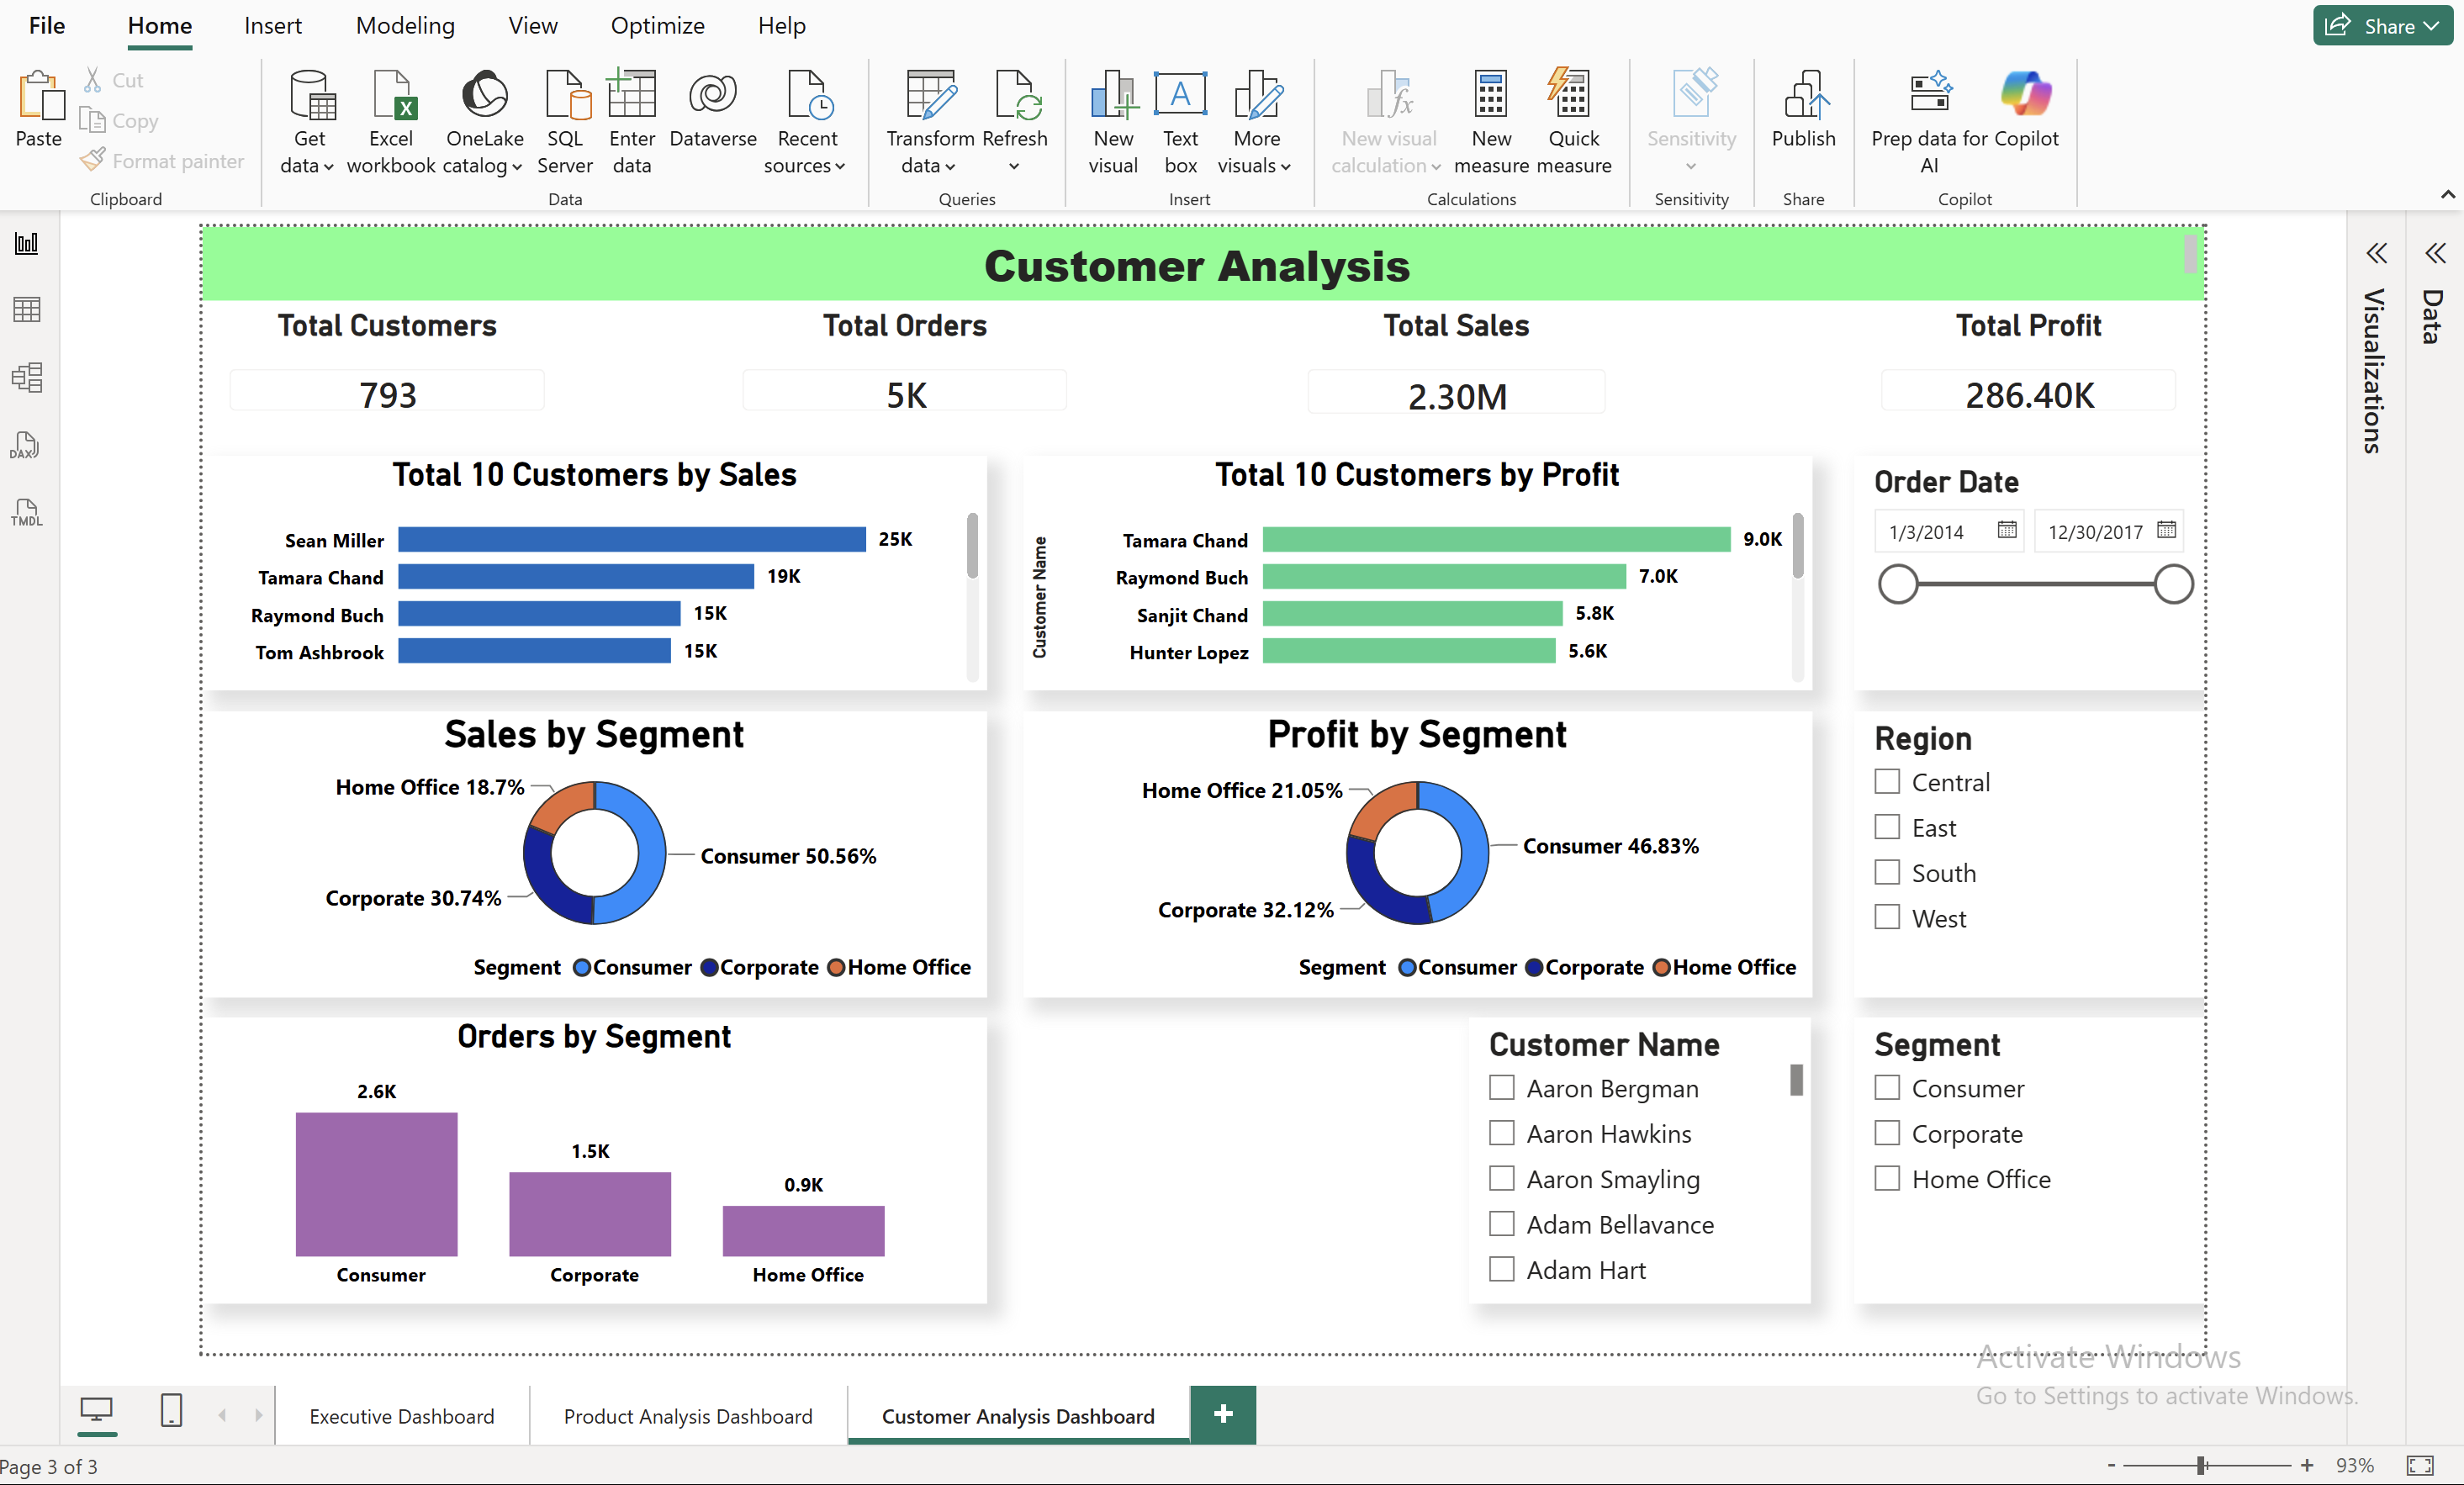

What the dashboard file says about the page in this screenshot:
{"tool":"powerbi","page":{"name":"Customer Analysis Dashboard","canvas":[1280,720],"ordinal":2},"visuals":[{"type":"textbox","box":[0,0,1280,47.1],"z":0},{"type":"cardVisual","title":"Total Customers","fields":{"Data":["Superstore_dataset.Total Customers"]},"box":[0,51.2,236.2,83.8],"z":1},{"type":"cardVisual","title":"Total Orders","fields":{"Data":["Superstore_dataset.Total Orders"]},"box":[327.5,51.2,242.5,83.8],"z":2},{"type":"cardVisual","title":"Total Sales","fields":{"Data":["Superstore_dataset.Total Sales"]},"box":[688.8,51.2,225,85],"z":3},{"type":"cardVisual","title":"Total Profit","fields":{"Data":["Superstore_dataset.Total Profit"]},"box":[1056.2,51.2,223.8,83.8],"z":4},{"type":"clusteredBarChart","title":"Total 10 Customers by Sales","fields":{"Category":["Superstore_dataset.Customer Name"],"Y":["Superstore_dataset.Total Sales"]},"box":[0,145.7,501.4,150],"z":5},{"type":"clusteredBarChart","title":"Total 10 Customers by Profit","fields":{"Category":["Superstore_dataset.Customer Name"],"Y":["Superstore_dataset.Total Profit"]},"box":[524.3,145.7,504.3,150],"z":6},{"type":"donutChart","title":"Sales by Segment","fields":{"Category":["Superstore_dataset.Segment"],"Y":["Superstore_dataset.Total Sales"]},"box":[0,310,501.4,182.9],"z":7},{"type":"donutChart","title":"Profit by Segment","fields":{"Category":["Superstore_dataset.Segment"],"Y":["Superstore_dataset.Total Profit"]},"box":[524.3,310,504.3,182.9],"z":8},{"type":"clusteredColumnChart","title":"Orders by Segment","fields":{"Category":["Superstore_dataset.Segment"],"Y":["Superstore_dataset.Total Orders"]},"box":[0,505.7,501.4,182.9],"z":9},{"type":"slicer","fields":{"Values":["Superstore_dataset.Order Date"]},"box":[1055.7,145.7,225.7,150],"z":10},{"type":"slicer","fields":{"Values":["Superstore_dataset.Region"]},"box":[1055.7,310,225.7,182.9],"z":11},{"type":"slicer","fields":{"Values":["Superstore_dataset.Segment"]},"box":[1055.7,505.7,225.7,182.9],"z":12},{"type":"slicer","fields":{"Values":["Superstore_dataset.Customer Name"]},"box":[810,505.7,218.6,182.9],"z":13}]}

Visuals, with their boxes on the page's 1280x720 design canvas (x1, y1, x2, y2). These are canvas units, not pixel positions in the 2464x1485 screenshot, which may show the page scaled, cropped or inside an application window:
textbox: <bbox>0, 0, 1280, 47</bbox>
"Total Customers" cardVisual: <bbox>0, 51, 236, 135</bbox>
"Total Orders" cardVisual: <bbox>328, 51, 570, 135</bbox>
"Total Sales" cardVisual: <bbox>689, 51, 914, 136</bbox>
"Total Profit" cardVisual: <bbox>1056, 51, 1280, 135</bbox>
"Total 10 Customers by Sales" clusteredBarChart: <bbox>0, 146, 501, 296</bbox>
"Total 10 Customers by Profit" clusteredBarChart: <bbox>524, 146, 1029, 296</bbox>
"Sales by Segment" donutChart: <bbox>0, 310, 501, 493</bbox>
"Profit by Segment" donutChart: <bbox>524, 310, 1029, 493</bbox>
"Orders by Segment" clusteredColumnChart: <bbox>0, 506, 501, 689</bbox>
slicer - Superstore_dataset.Order Date: <bbox>1056, 146, 1281, 296</bbox>
slicer - Superstore_dataset.Region: <bbox>1056, 310, 1281, 493</bbox>
slicer - Superstore_dataset.Segment: <bbox>1056, 506, 1281, 689</bbox>
slicer - Superstore_dataset.Customer Name: <bbox>810, 506, 1029, 689</bbox>
